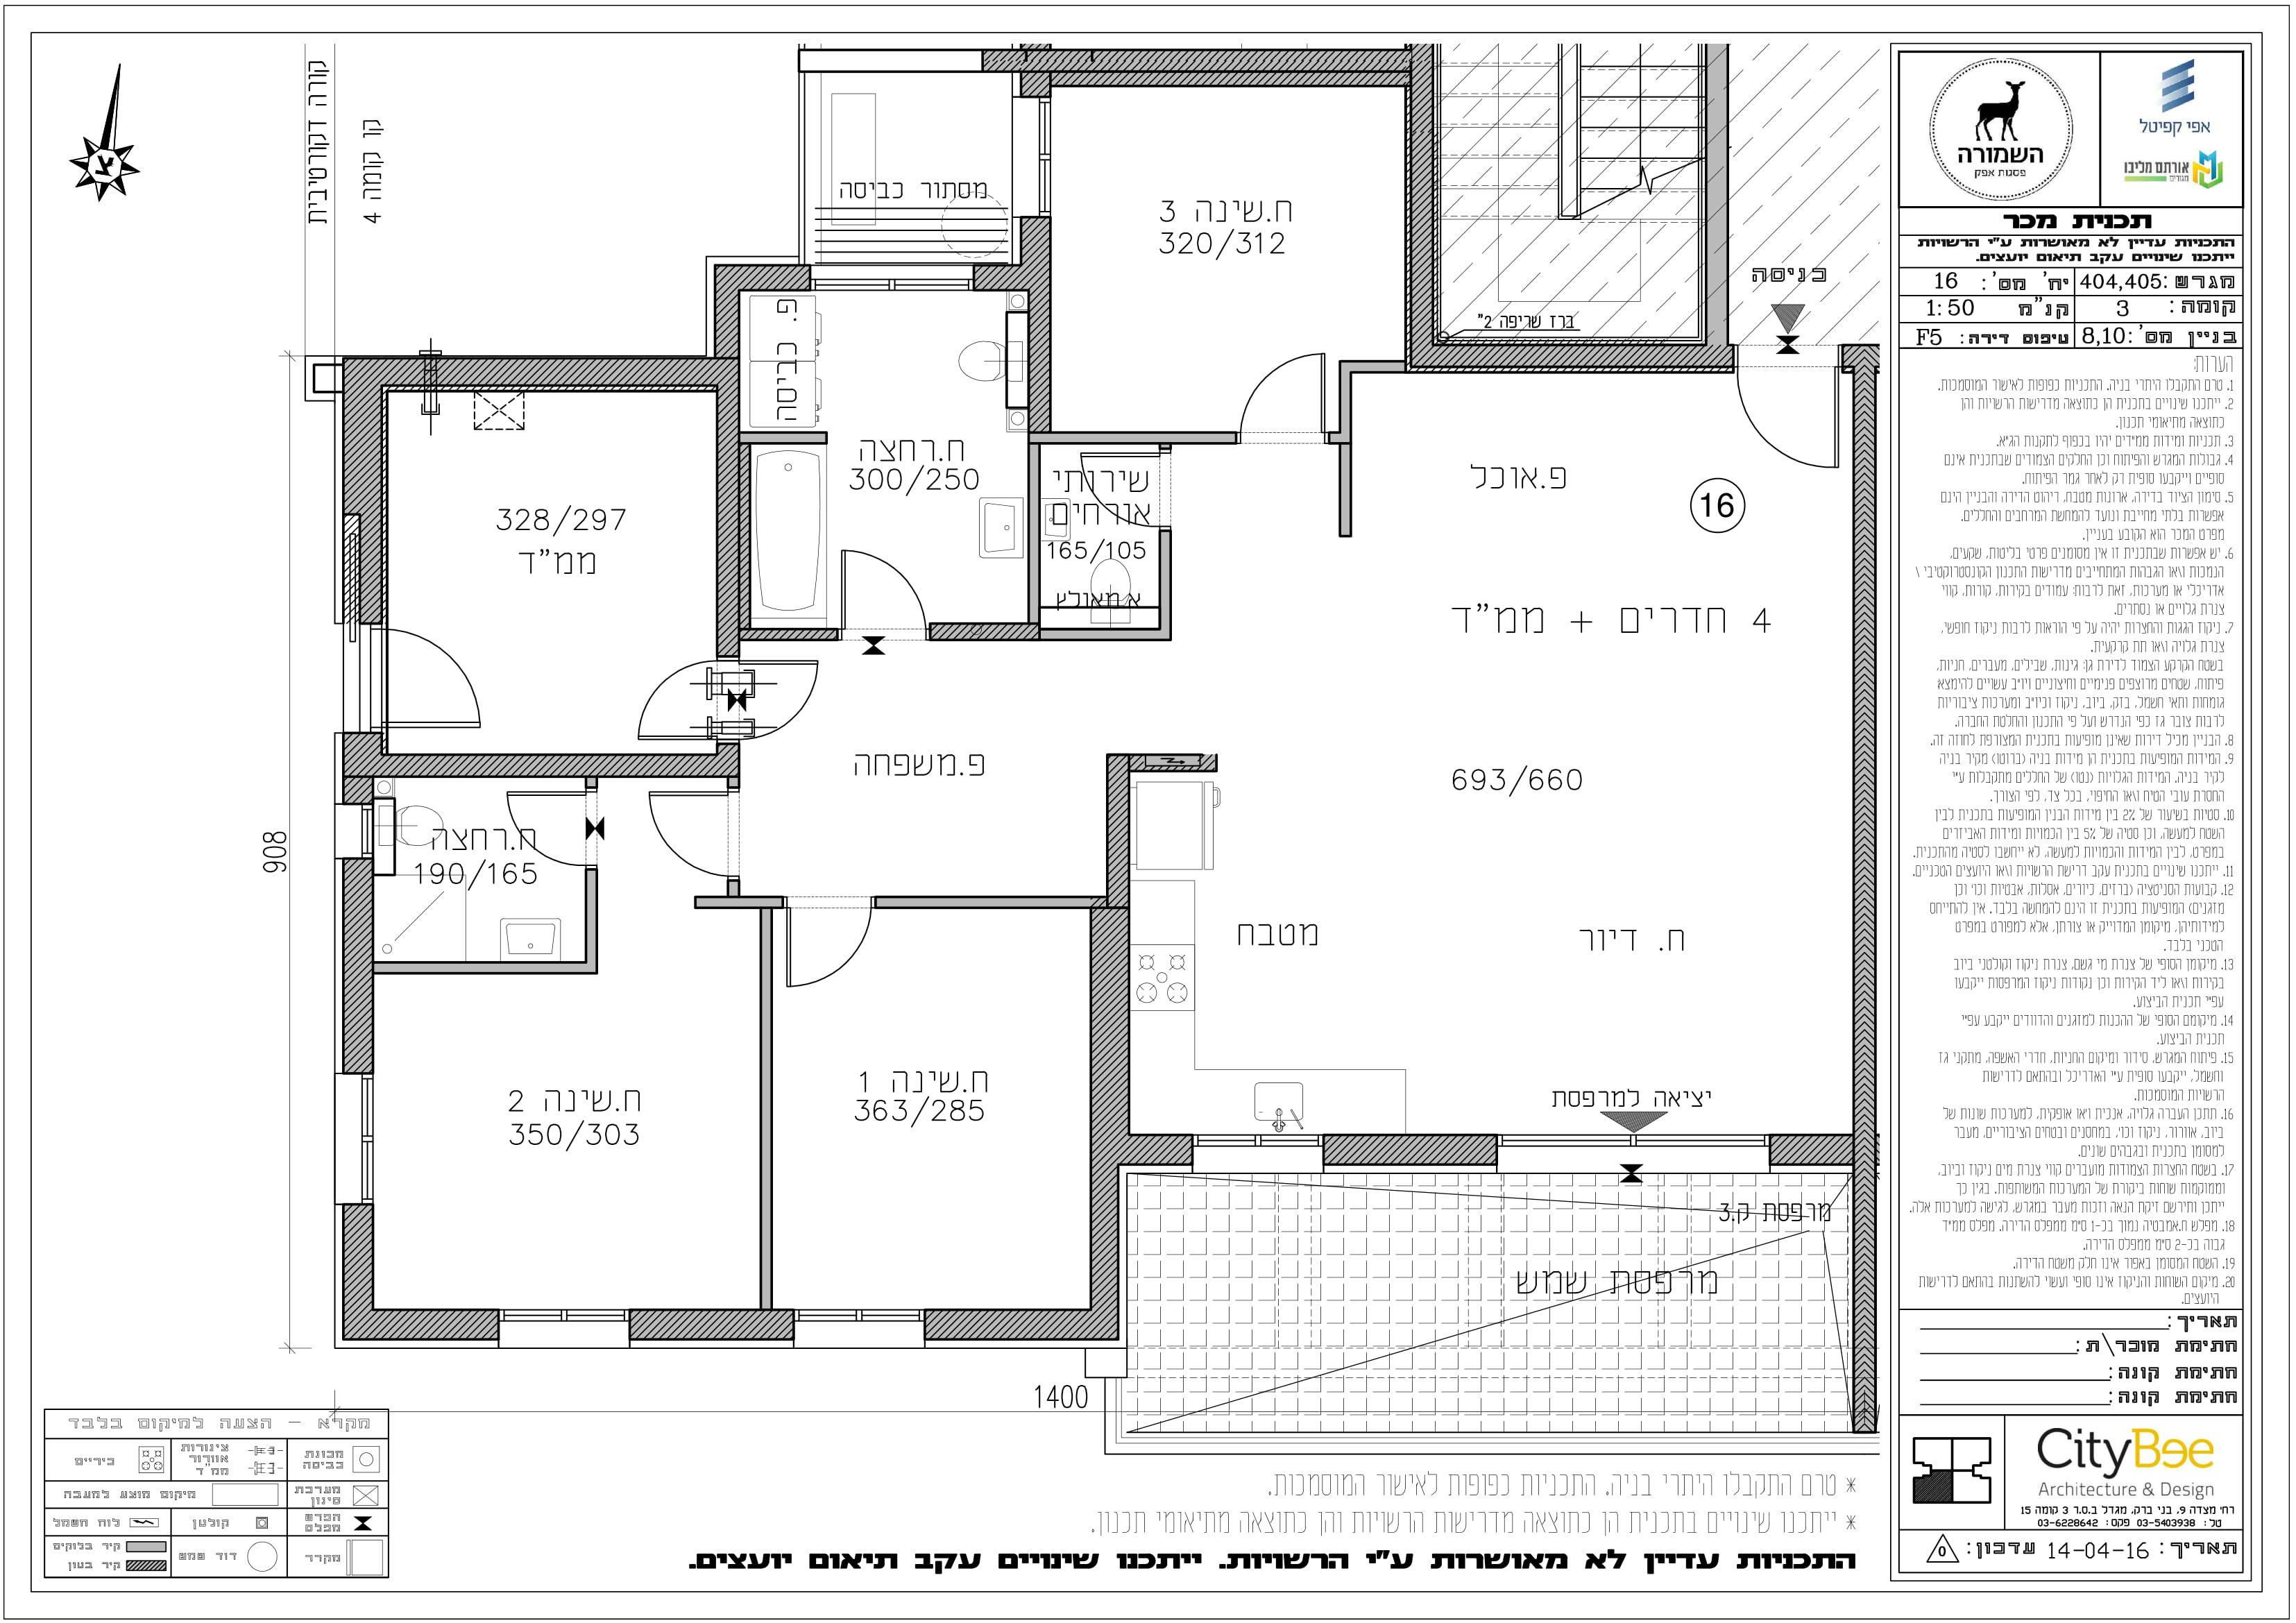door: (1734, 365, 1843, 480), (385, 627, 490, 738), (1233, 334, 1332, 446), (629, 785, 743, 876), (780, 896, 877, 994), (836, 541, 929, 643)
wall: (1857, 365, 1876, 1435), (1087, 910, 1121, 1338), (346, 360, 741, 385), (759, 912, 769, 1310)
window: (810, 274, 975, 299), (1191, 1131, 1325, 1151), (357, 1075, 374, 1205), (1035, 97, 1052, 216), (794, 1307, 924, 1323), (499, 1310, 629, 1324), (358, 804, 376, 859)
